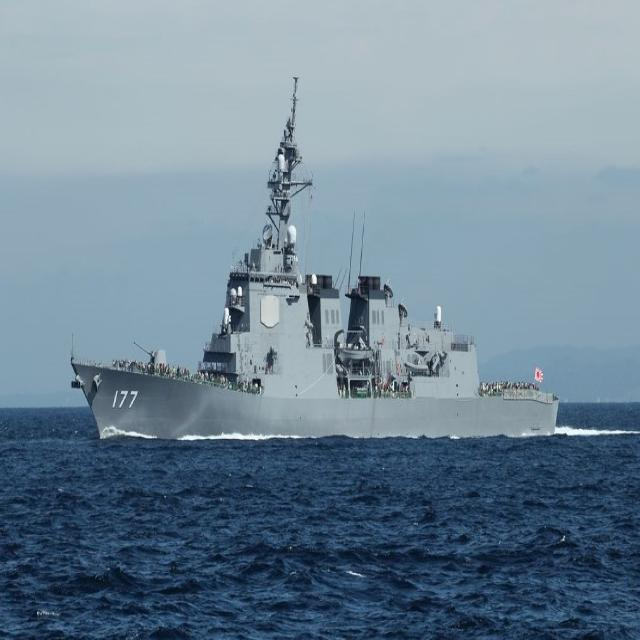navalvessels: (64, 84, 568, 460)
